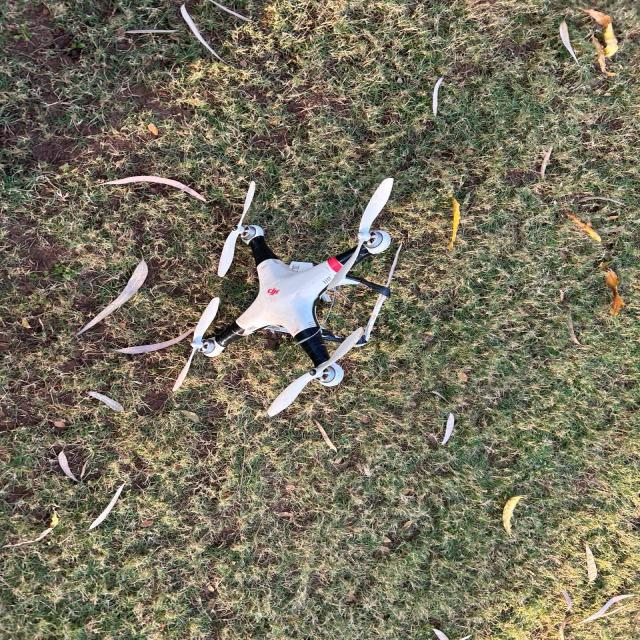drone: (76, 140, 520, 444)
